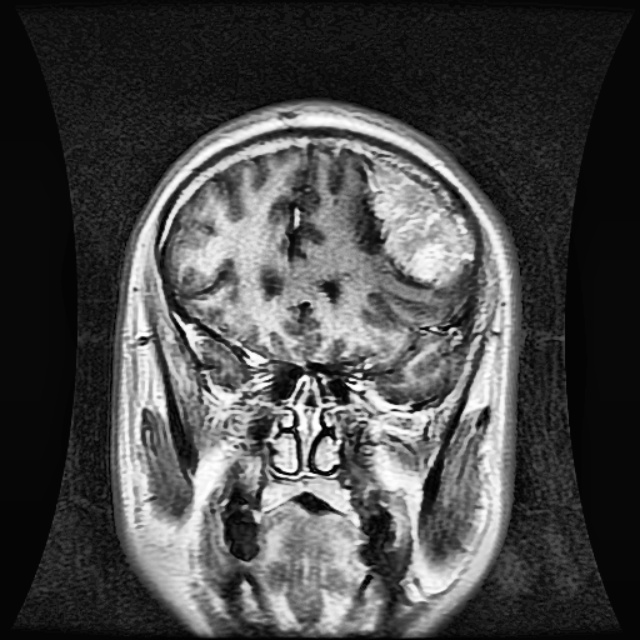Glioma: (367, 159, 465, 285)
